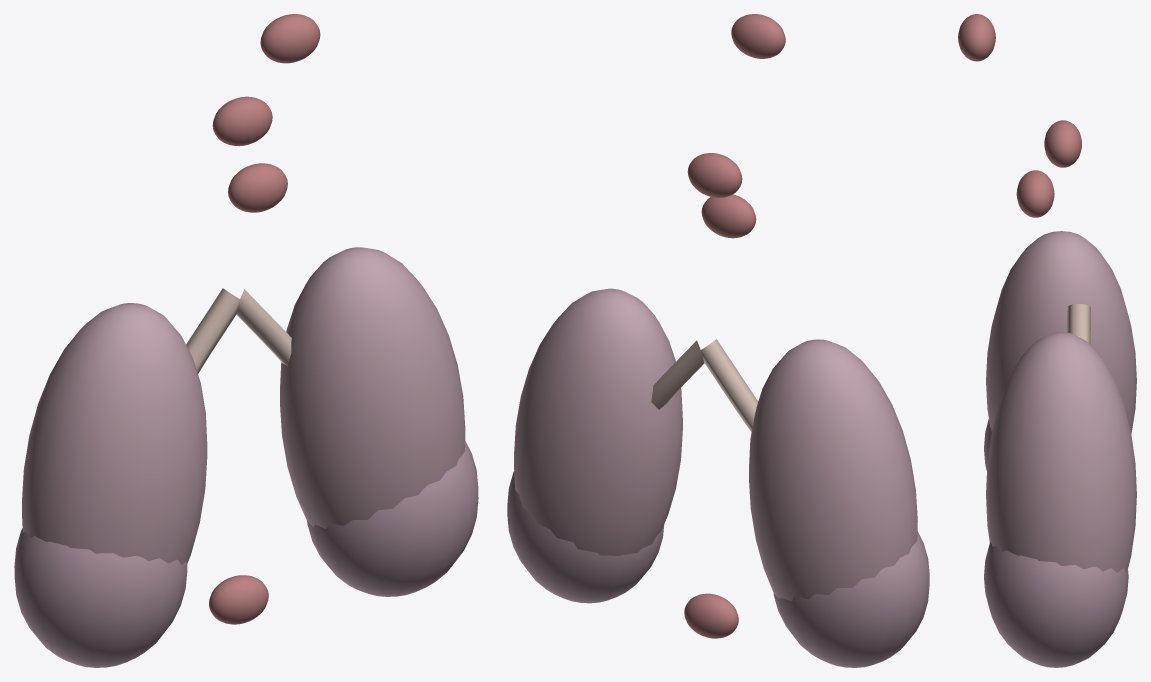
File: respiratory-system.glb
The picture shows the model from 3 angles, left to right: view 1: azimuth 30°, elevation 25°; view 2: azimuth 150°, elevation 25°; view 3: azimuth 270°, elevation 25°; orthographic projection. The views are drawn at different scales.
Parts seen in each view (by area): view 1: left-lung-298, right-lung-294, right-lung-295, left-lung-299, dev-marker-nasal-cavity, dev-marker-diaphragm, dev-marker-pharynx, dev-marker-larynx, right-lung-296, left-lung-300; view 2: left-lung-298, right-lung-294, right-lung-295, left-lung-299, right-lung-296, dev-marker-diaphragm, dev-marker-nasal-cavity, dev-marker-pharynx, dev-marker-larynx, left-lung-300; view 3: left-lung-298, right-lung-294, left-lung-299, dev-marker-larynx, dev-marker-pharynx, dev-marker-nasal-cavity, left-lung-300.
Boxes of the visible parts, box(x1,y1,x2,y2) form: left-lung-298: box(280, 247, 465, 528); right-lung-294: box(22, 303, 207, 564); right-lung-295: box(14, 528, 187, 667); left-lung-299: box(307, 441, 478, 596); dev-marker-nasal-cavity: box(260, 14, 320, 63); dev-marker-diaphragm: box(209, 575, 268, 624); dev-marker-pharynx: box(212, 96, 272, 146); dev-marker-larynx: box(228, 163, 287, 212); right-lung-296: box(186, 288, 239, 373); left-lung-300: box(236, 289, 291, 365); left-lung-298: box(514, 288, 682, 555); right-lung-294: box(749, 339, 917, 601); right-lung-295: box(773, 531, 929, 667); left-lung-299: box(507, 471, 664, 603); right-lung-296: box(701, 339, 758, 431); dev-marker-diaphragm: box(684, 593, 738, 638); dev-marker-nasal-cavity: box(731, 14, 785, 58); dev-marker-pharynx: box(687, 153, 742, 197); dev-marker-larynx: box(701, 194, 756, 238); left-lung-300: box(651, 340, 704, 409); left-lung-298: box(986, 332, 1136, 572); right-lung-294: box(986, 231, 1136, 433); left-lung-299: box(984, 542, 1128, 667); dev-marker-larynx: box(1016, 170, 1054, 217); dev-marker-pharynx: box(1044, 120, 1081, 167); dev-marker-nasal-cavity: box(958, 14, 995, 61); left-lung-300: box(1067, 304, 1090, 344).
Bounding box in the file's own units: 1.35 × 1.86 × 0.519.
